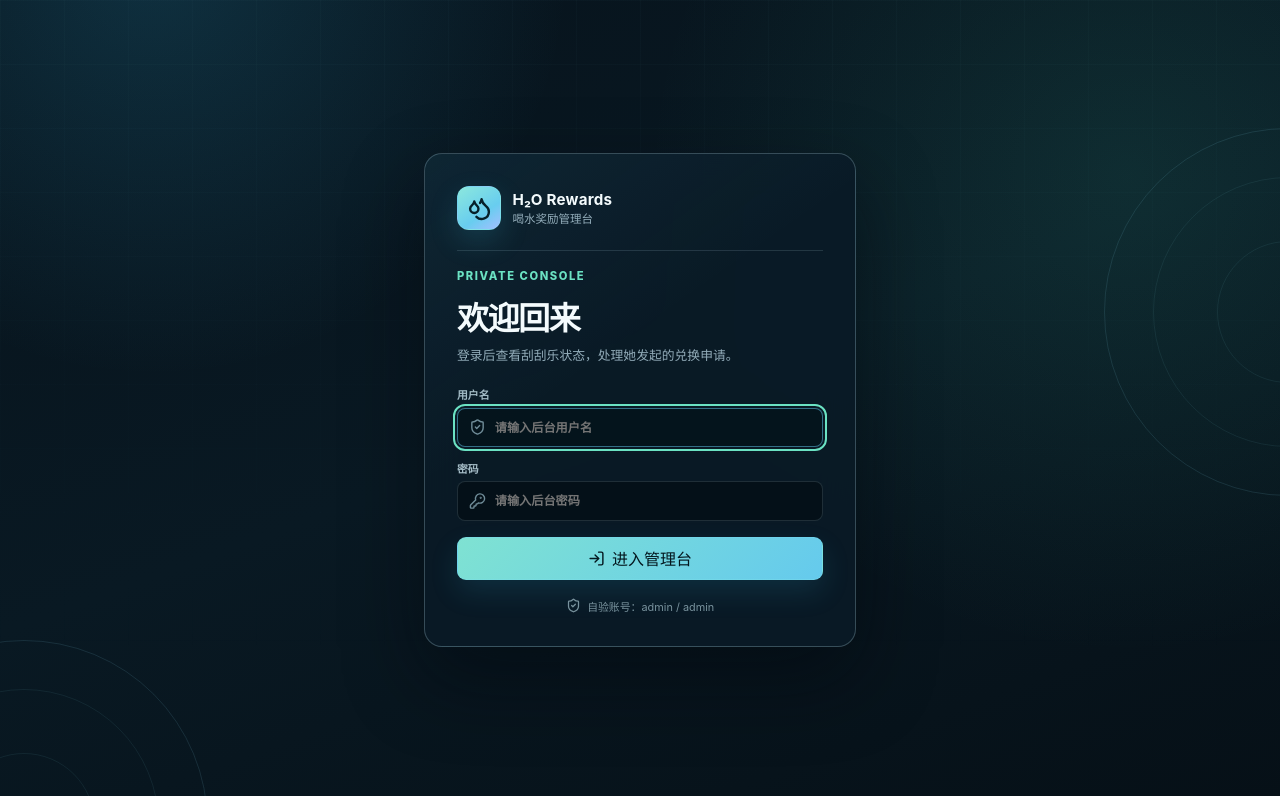
Test: WaterAdminPage › saves a clear tarot promotion visibility switch
Type "admin" into the field labelled "用户名" at x=640, y=427, box [457,408,823,447]
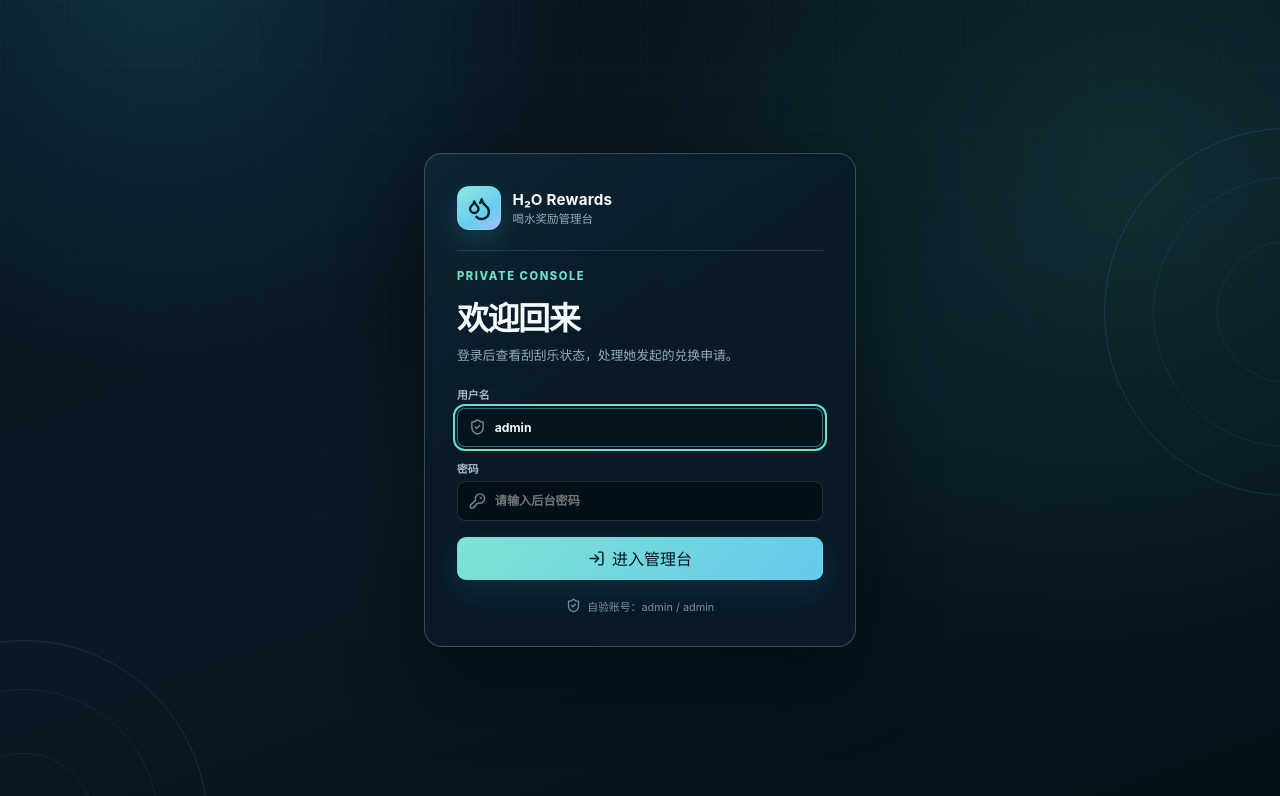
Type "admin" into the password field labelled "密码" at x=640, y=501, box [457,481,823,521]
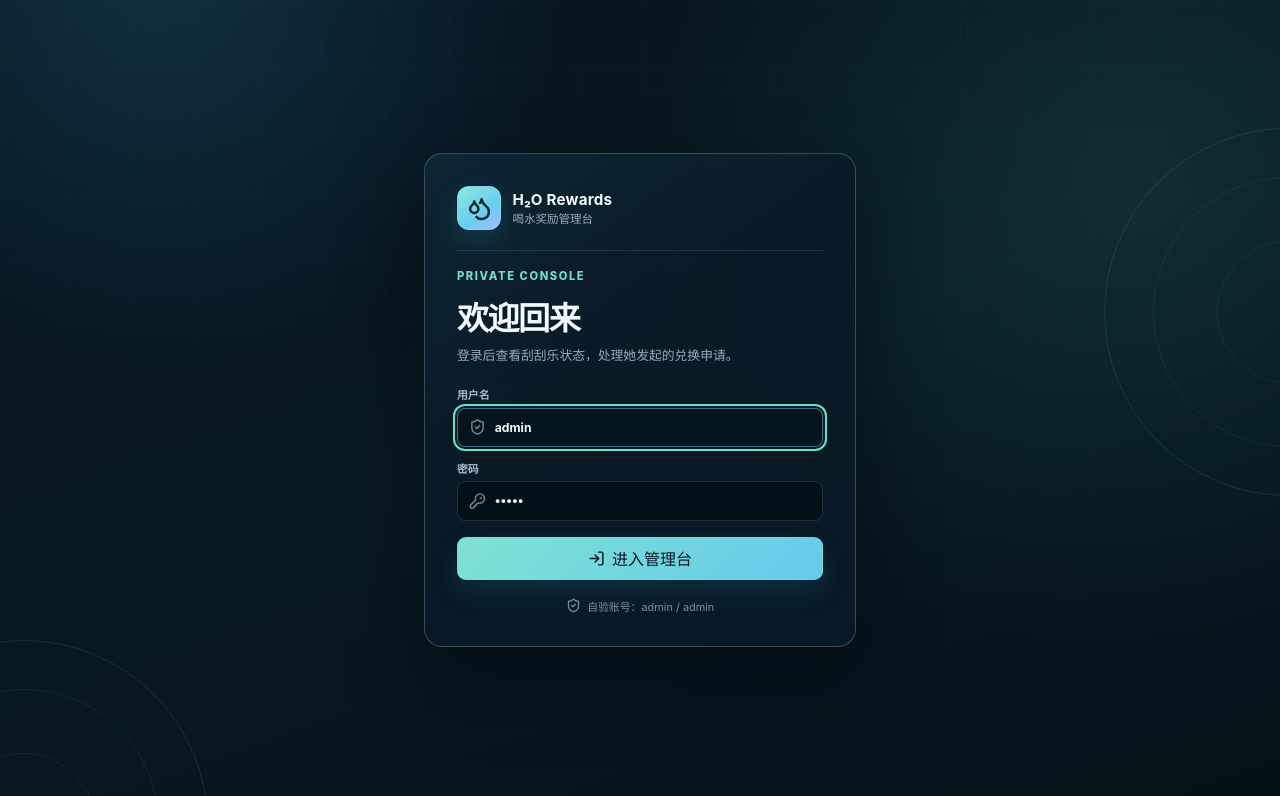
Submit the form, box [457,386,823,580]
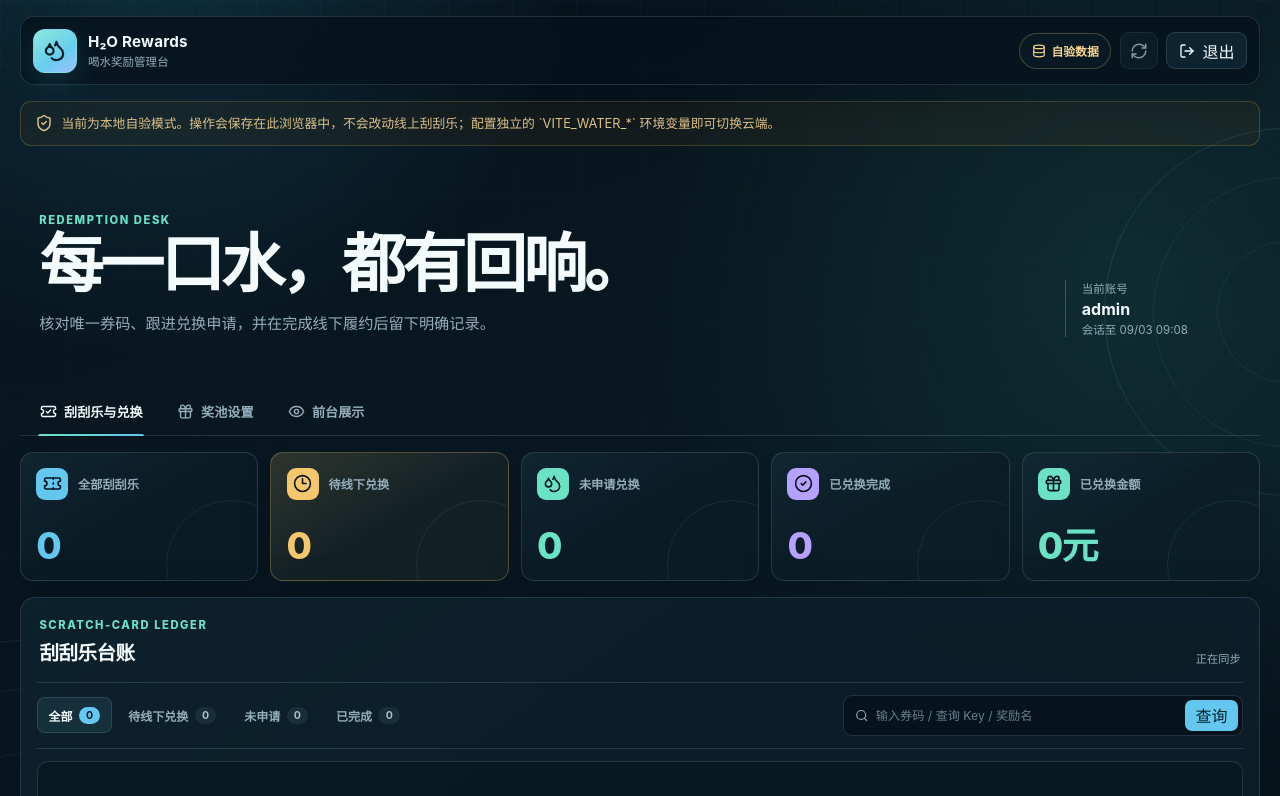
Click the button "前台展示" at x=326, y=412, box [274,388,379,435]
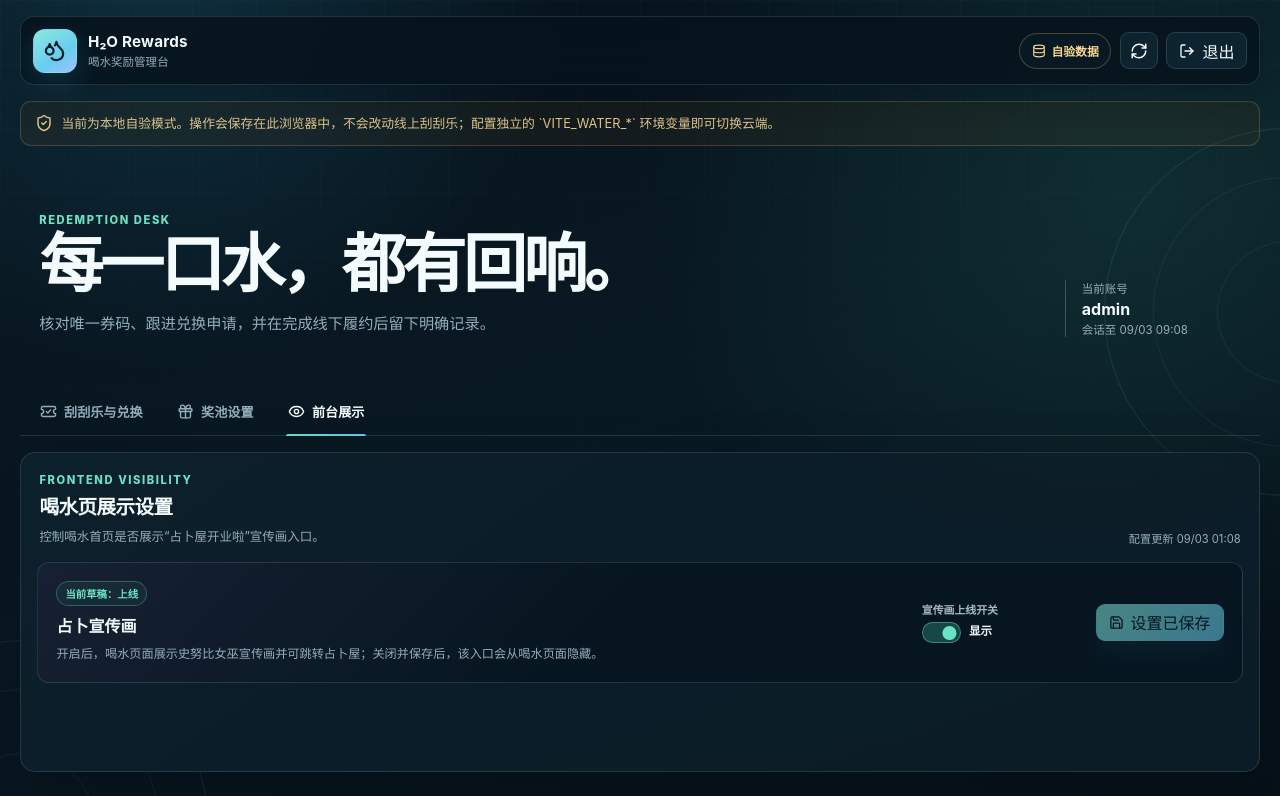
Expected: the checkbox labelled "宣传画上线开关 显示" is checked
Click the checkbox labelled "宣传画上线开关 显示" at x=960, y=623, box [922,603,998,644]
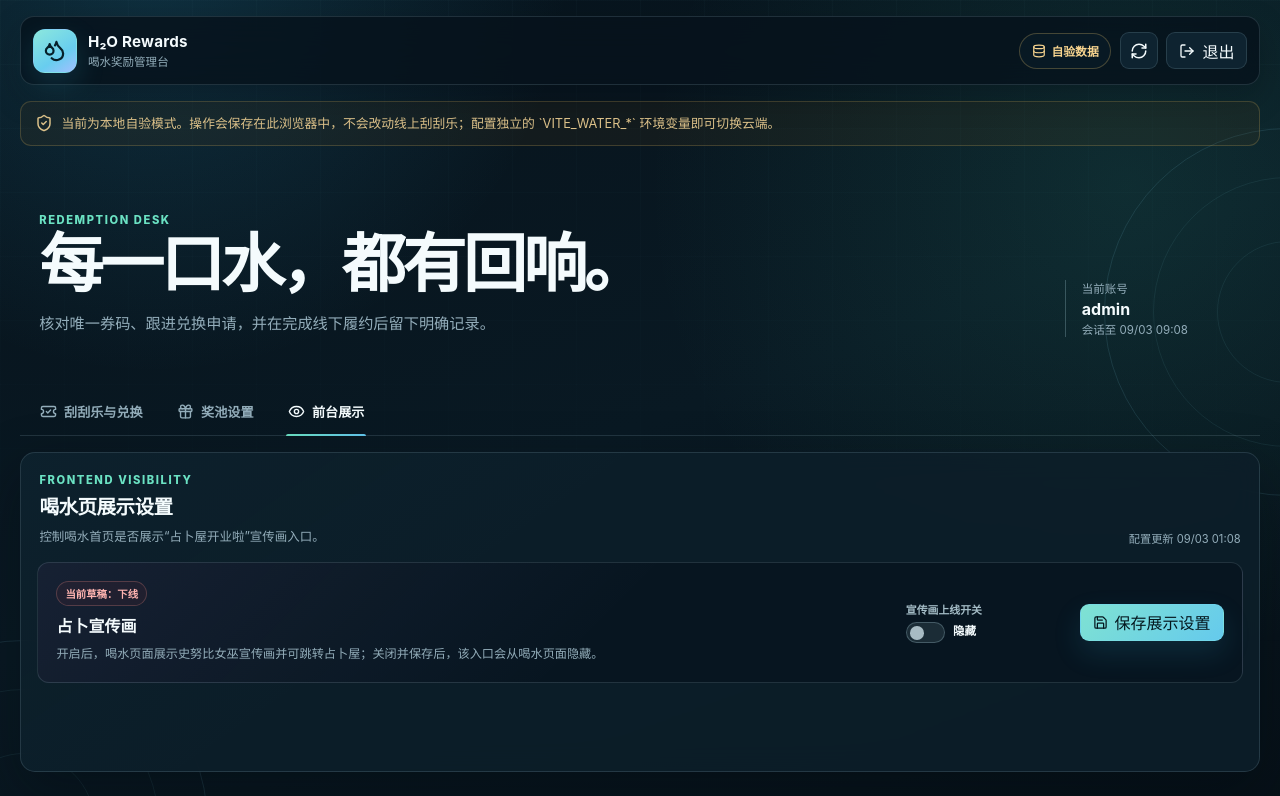
Click the button "保存展示设置" at x=1152, y=622, box [1080,604,1224,641]
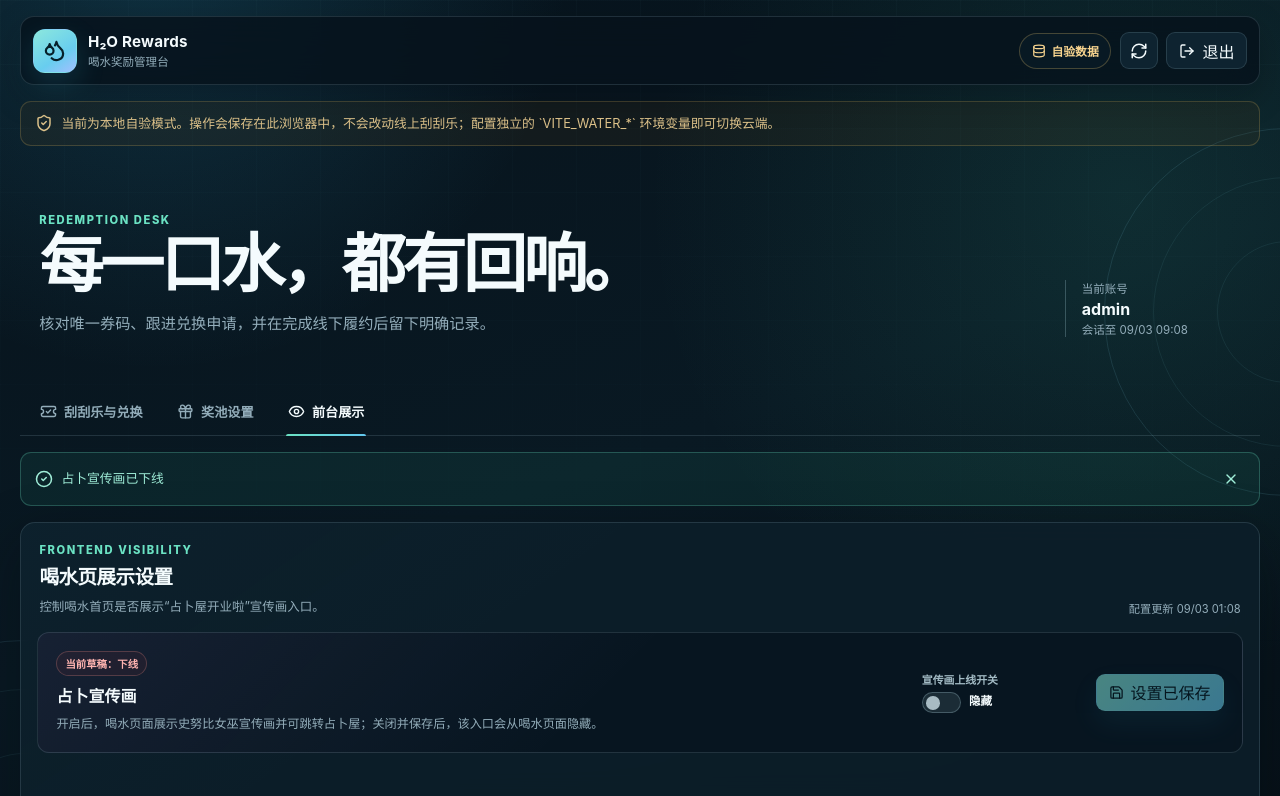
Expected: the checkbox labelled "宣传画上线开关 隐藏" is not checked, [922,673,998,713]
Expected: the text "占卜宣传画已下线" is shown, [61,471,164,486]
